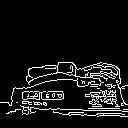cube: (56, 60, 77, 79)
